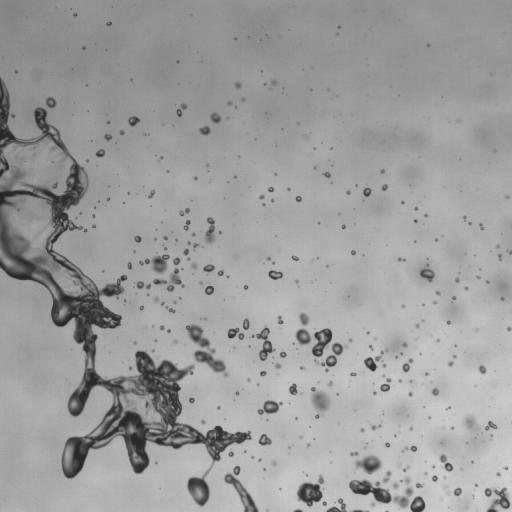droplet: (153, 257, 184, 291), (296, 475, 324, 506), (251, 326, 274, 360), (484, 487, 511, 511), (139, 254, 169, 274), (310, 387, 329, 418), (355, 455, 382, 474), (258, 400, 282, 414), (420, 263, 434, 282), (462, 415, 478, 431), (227, 328, 244, 339), (380, 378, 391, 392), (258, 434, 271, 445), (402, 358, 412, 372), (268, 270, 282, 279), (210, 112, 221, 123), (128, 116, 140, 126), (46, 97, 56, 108), (289, 383, 298, 395), (485, 421, 497, 430), (199, 126, 210, 135), (203, 264, 214, 273), (452, 487, 462, 496), (95, 149, 105, 157), (478, 365, 486, 374), (242, 319, 249, 329), (363, 188, 371, 196), (205, 286, 213, 294), (184, 220, 190, 230), (148, 189, 154, 198), (134, 235, 141, 242), (190, 262, 197, 269), (277, 315, 282, 324), (104, 134, 111, 140), (432, 388, 438, 395), (235, 82, 241, 88), (381, 184, 387, 190), (274, 363, 280, 369), (260, 370, 266, 376), (323, 172, 330, 177), (183, 249, 188, 256), (291, 255, 298, 260), (268, 187, 274, 192), (192, 243, 198, 248), (217, 270, 223, 275), (280, 352, 286, 357), (189, 397, 194, 403), (228, 451, 233, 457), (403, 466, 409, 471), (432, 475, 437, 481), (271, 80, 276, 85), (259, 194, 264, 199), (296, 196, 301, 201), (154, 297, 159, 302), (402, 342, 407, 347), (448, 361, 453, 366), (479, 223, 483, 229), (497, 254, 501, 260), (127, 262, 131, 268), (350, 372, 356, 376), (416, 483, 422, 487), (351, 452, 358, 455), (106, 22, 111, 26), (455, 277, 459, 282), (160, 325, 164, 330), (369, 345, 373, 350), (300, 366, 305, 370), (328, 381, 332, 386), (385, 442, 389, 447), (322, 501, 326, 506), (227, 101, 231, 105), (120, 130, 124, 134), (380, 169, 384, 173), (346, 190, 350, 194), (351, 250, 355, 254), (243, 285, 247, 289), (436, 291, 440, 295), (415, 324, 419, 328), (507, 327, 511, 331), (348, 338, 352, 342), (408, 392, 412, 396), (201, 420, 205, 424), (360, 428, 364, 432), (272, 461, 276, 465), (496, 472, 500, 476), (382, 362, 385, 367), (194, 176, 197, 180), (414, 207, 418, 210), (341, 225, 345, 228), (163, 236, 167, 239), (508, 250, 511, 254), (464, 287, 468, 290), (452, 296, 455, 300), (160, 302, 164, 305), (446, 321, 450, 324), (128, 366, 132, 369), (506, 195, 509, 198), (463, 216, 466, 219), (414, 219, 417, 222), (187, 241, 190, 244), (267, 257, 270, 260), (477, 276, 480, 279), (433, 301, 436, 304), (401, 304, 404, 307), (140, 306, 143, 309), (167, 329, 170, 332), (374, 337, 377, 340), (174, 340, 177, 343), (453, 355, 456, 358), (382, 374, 385, 377), (373, 391, 376, 394), (409, 427, 412, 430), (504, 466, 507, 469), (74, 13, 76, 16), (242, 98, 244, 101), (144, 133, 147, 135), (33, 153, 35, 156), (86, 159, 88, 162), (313, 166, 316, 168), (287, 188, 290, 190), (106, 198, 109, 200), (271, 199, 273, 202), (92, 215, 95, 217), (424, 214, 427, 216), (92, 224, 94, 227), (435, 238, 437, 241), (295, 280, 298, 282), (173, 301, 176, 303), (247, 378, 249, 381), (399, 379, 401, 382), (409, 380, 412, 382), (236, 391, 238, 394), (397, 464, 400, 466), (83, 46, 85, 48), (107, 121, 109, 123), (401, 201, 403, 203), (84, 229, 86, 231), (192, 233, 194, 235), (496, 245, 498, 247), (164, 247, 166, 249), (501, 298, 503, 300), (436, 339, 438, 341), (134, 342, 136, 344), (152, 350, 154, 352), (447, 407, 449, 409), (451, 427, 453, 429), (307, 444, 309, 446), (259, 459, 261, 461), (475, 484, 477, 486)
ligament: (0, 78, 251, 506), (349, 470, 425, 511), (295, 312, 347, 371), (186, 324, 228, 377), (224, 466, 258, 511), (326, 498, 368, 511), (364, 349, 387, 371), (205, 217, 215, 243), (439, 454, 452, 471), (176, 104, 186, 116), (135, 281, 150, 289), (402, 445, 417, 451), (179, 208, 189, 215), (371, 424, 381, 430), (443, 486, 450, 494), (166, 307, 175, 312), (30, 215, 40, 219), (397, 257, 405, 261), (293, 508, 303, 511), (385, 510, 388, 511)
